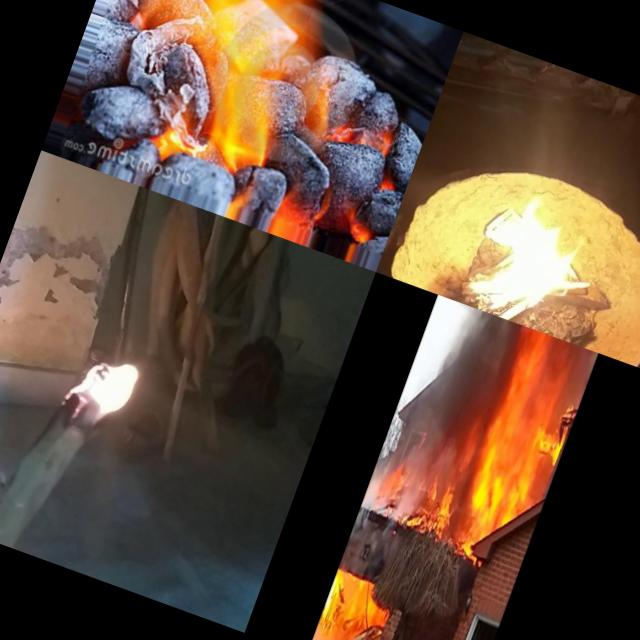fire: (112, 0, 332, 179), (441, 324, 598, 568), (442, 156, 612, 340), (38, 314, 165, 466), (406, 464, 462, 537), (374, 451, 416, 508), (317, 567, 351, 634)
smoke: (390, 298, 519, 476), (345, 498, 407, 568), (398, 461, 428, 513), (307, 629, 356, 640)
